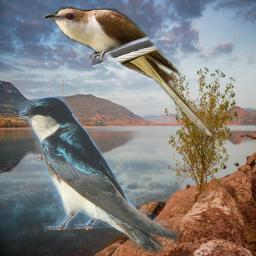Cuckoo: (42, 6, 216, 139)
Swallow: (19, 96, 181, 253)
